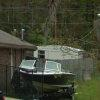Boat: (20, 50, 88, 97)
